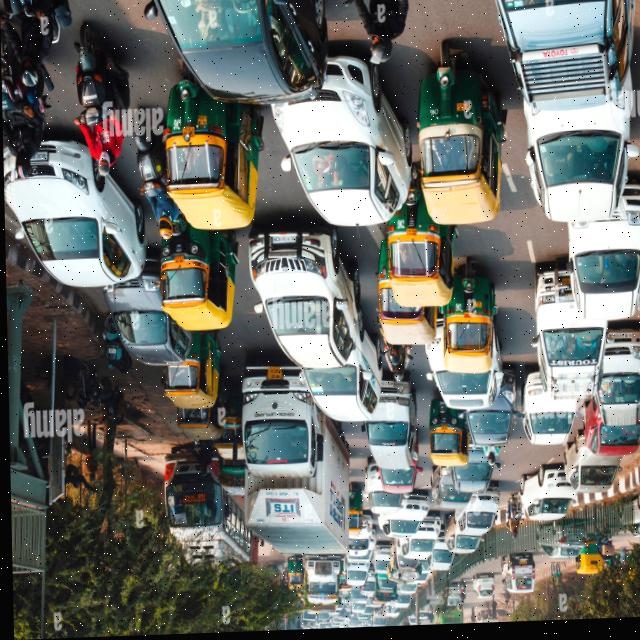plate: (269, 237, 295, 248), (265, 367, 281, 384), (181, 127, 195, 141), (613, 336, 632, 345), (456, 104, 469, 117), (403, 230, 417, 241), (173, 256, 185, 267), (81, 94, 97, 102), (471, 303, 481, 314), (405, 500, 418, 508), (142, 165, 151, 176), (419, 525, 430, 531), (1, 75, 12, 81), (437, 428, 447, 434), (184, 459, 195, 464), (516, 565, 525, 569), (479, 582, 486, 586), (379, 551, 387, 554)
